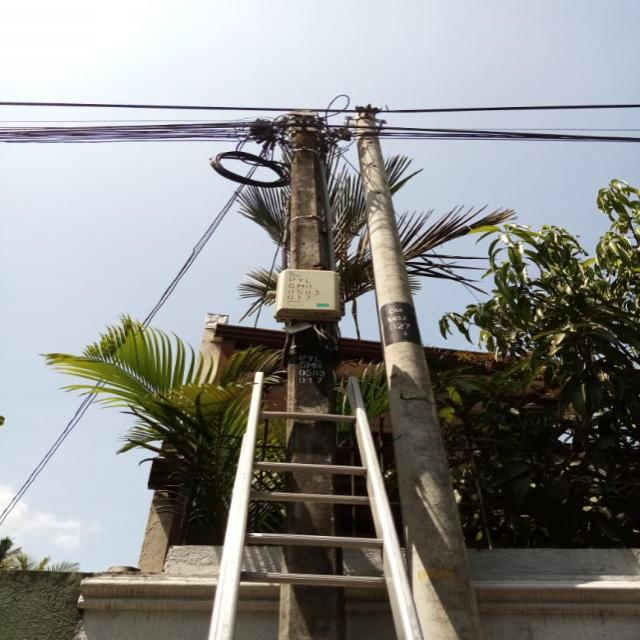light_pole: (346, 99, 498, 640), (254, 104, 346, 640)
